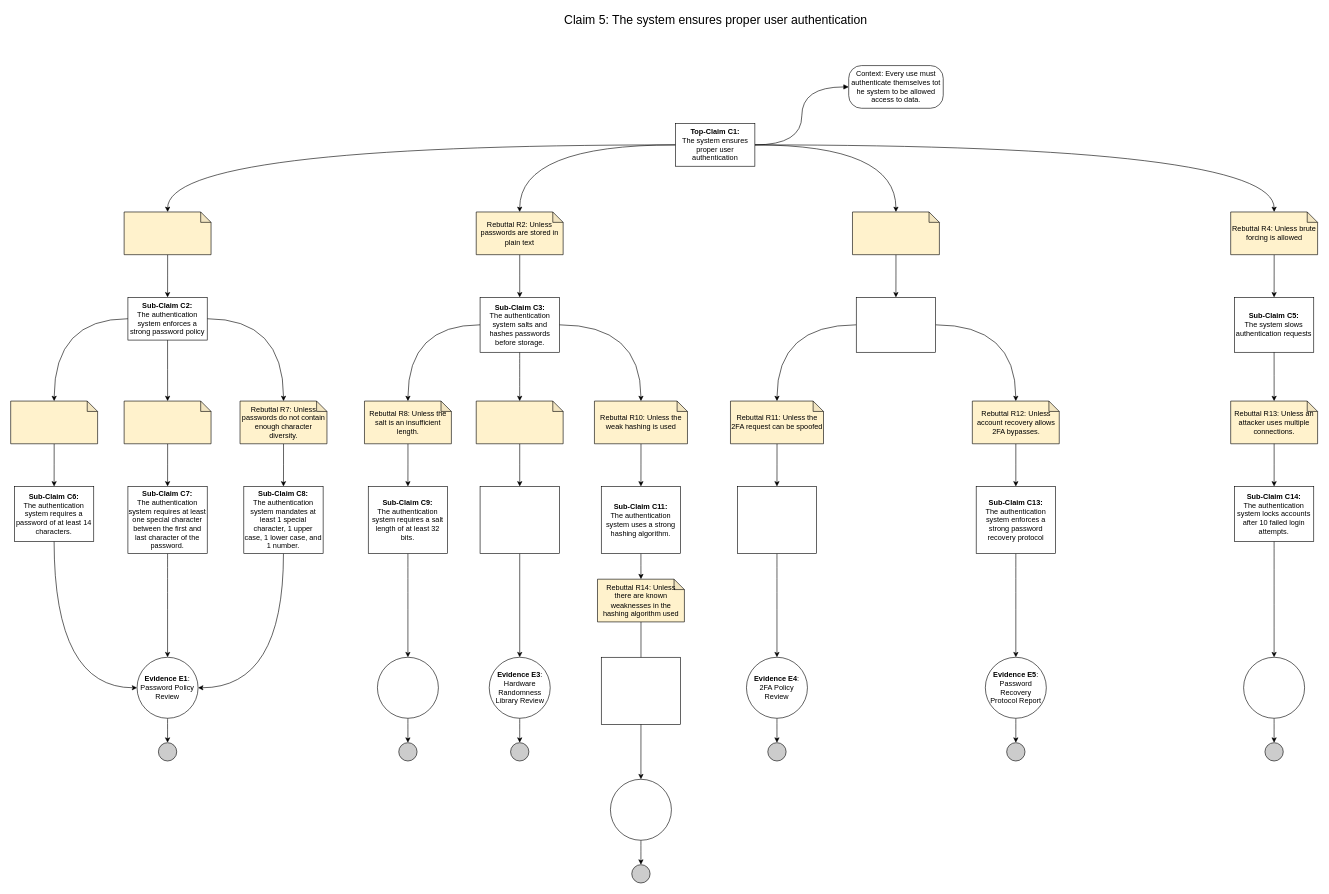
This 1329x894 diagram has some shape labels left out. Each missing label, with the centre of its shape:
"Evidence E2 : Source Code Review" goes at (x=407, y=687).
"Evidence E6 : Source Code Review" goes at (x=1274, y=687).
"Evidence E7 : Source Code Review" goes at (x=640, y=809).
"Rebuttal R1: Unless weak passwords are allowed" goes at (x=167, y=233).
"Rebuttal R3: Unless two factor authentication is not used" goes at (x=895, y=233).
"Rebuttal R5: Unless short passwords are allowed" goes at (x=54, y=422).
"Rebuttal R6: Unless a single plain dictionary word is accepted" goes at (x=167, y=422).
"Rebuttal R9: Unless the salt lacks sufficient entropy" goes at (x=519, y=422).
"Sub-Claim C10: The authentication system requires hardware generated randomness" goes at (x=519, y=520).
"Sub-Claim C12: The authentication system encrypts 2FA requests." goes at (x=777, y=520).
"Sub-Claim C14: The system uses an industry standard algorithm." goes at (x=641, y=690).
"Sub-Claim C4: The authentication system implements two factor authentication." goes at (x=896, y=324).
